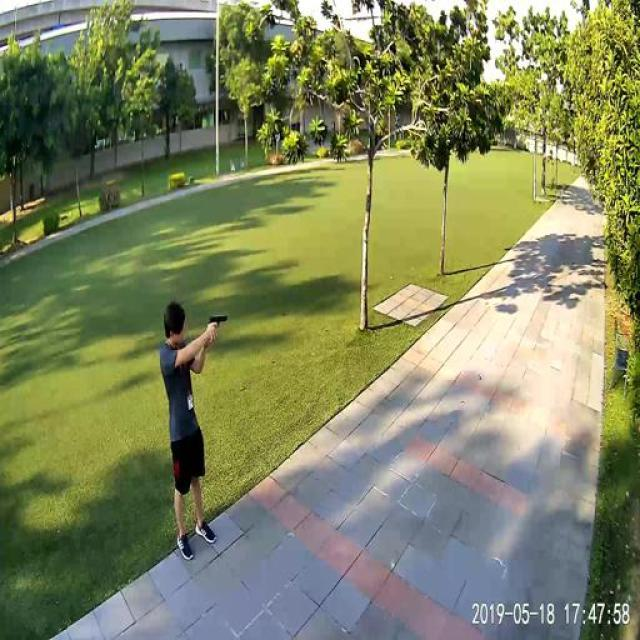Gun: (202, 310, 243, 343)
